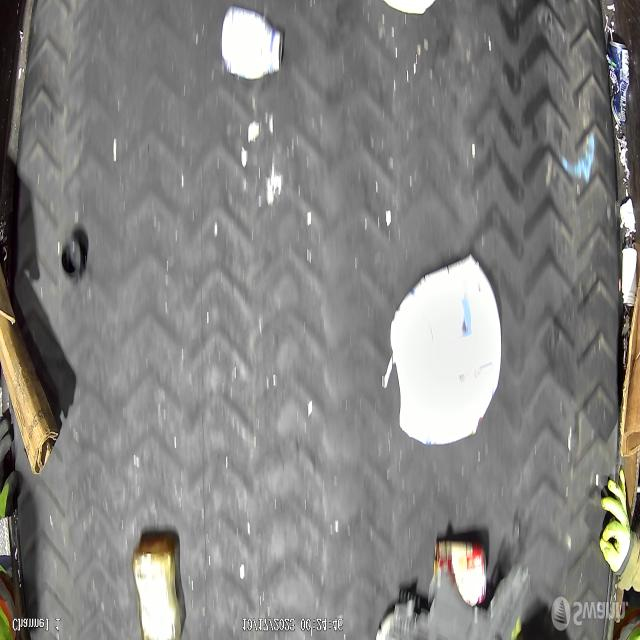can: (434, 537, 488, 607), (607, 39, 630, 126)
